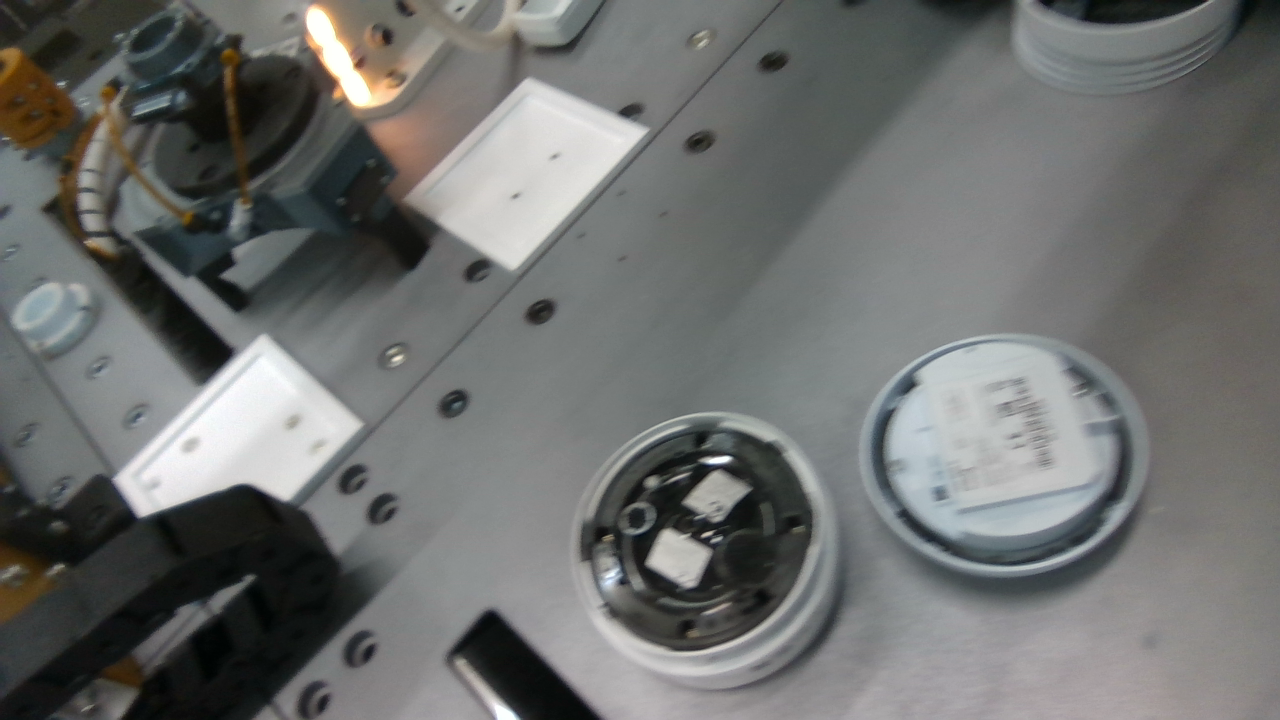HexScrew: (786, 518, 807, 536), (685, 625, 705, 643), (888, 458, 908, 471), (597, 530, 612, 544)
